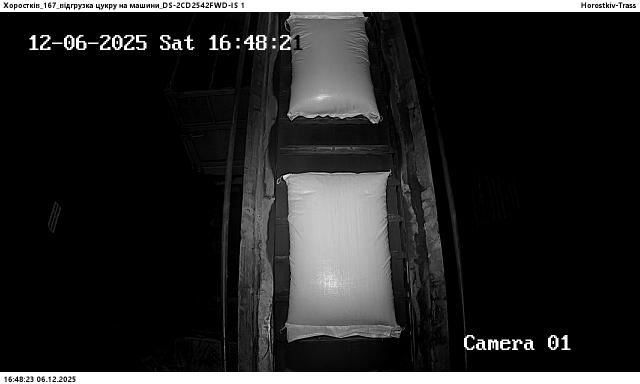bag: (282, 170, 401, 343), (288, 18, 382, 124)
